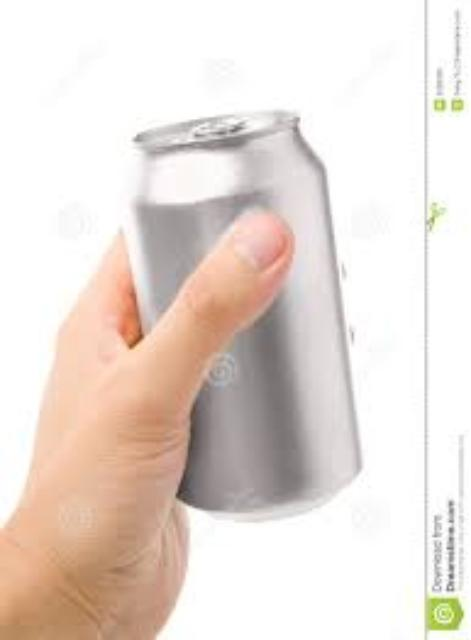metal: (125, 110, 357, 506)
